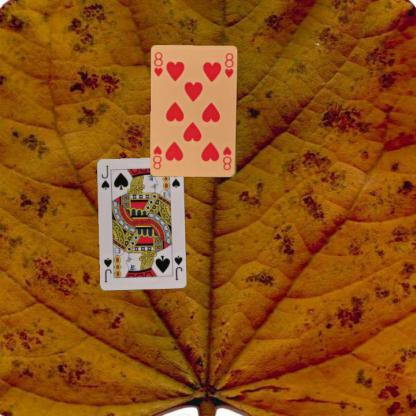8h: (151, 50, 164, 78), (220, 144, 233, 171)
Js: (98, 162, 110, 191), (172, 252, 183, 281)
